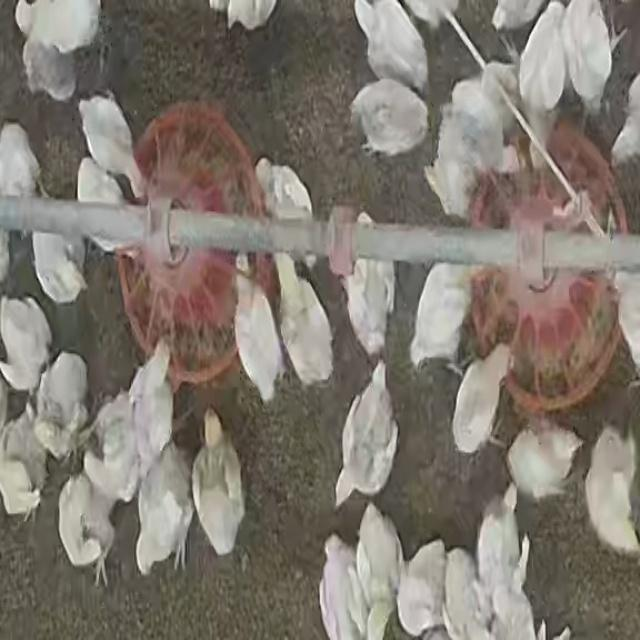chicken: (333, 364, 398, 508), (266, 256, 333, 388), (190, 406, 245, 563), (134, 440, 195, 579), (0, 124, 48, 296), (581, 424, 639, 560), (449, 343, 513, 459), (230, 264, 284, 397), (352, 1, 429, 94), (80, 393, 142, 508), (74, 91, 143, 194), (29, 181, 86, 305), (516, 2, 572, 128), (257, 160, 321, 269), (128, 343, 176, 488), (32, 350, 92, 462), (342, 238, 396, 362), (57, 471, 116, 584), (410, 265, 471, 373), (354, 503, 402, 640), (560, 0, 614, 112), (75, 158, 135, 256), (0, 407, 47, 524), (397, 540, 451, 640), (350, 84, 429, 152), (0, 294, 53, 395), (474, 496, 522, 598), (475, 60, 524, 158), (424, 152, 480, 225)
